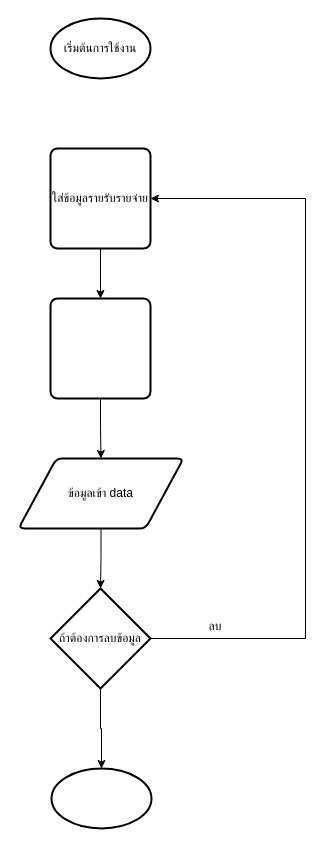
Some shapes in this 331 by 846 pixel diagram are drawn without their labels. The box of each missing label's shape, as (x1, y1, x2, y2) in pixels:
กดบันทึก: (49, 297, 151, 399)
จบ: (50, 767, 152, 829)
